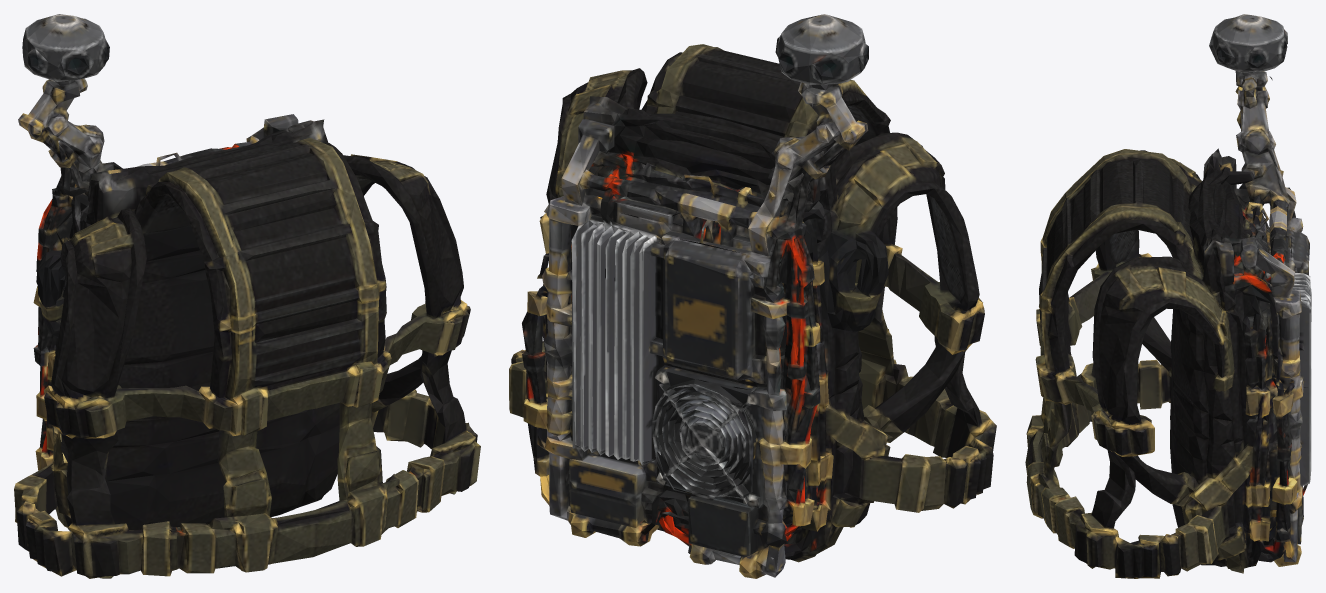
File: prepared-pack.glb
3 views of the same model, side by side, from view 1: azimuth 30°, elevation 25°; view 2: azimuth 150°, elevation 25°; view 3: azimuth 270°, elevation 25° (orthographic). The views are drawn at different scales.
Parts seen in each view (by area): view 1: operator_pack; view 2: operator_pack; view 3: operator_pack.
Part boxes in pixels (bbox=[...]): operator_pack: bbox=[14, 14, 480, 578]; operator_pack: bbox=[509, 14, 996, 578]; operator_pack: bbox=[1025, 14, 1311, 578].
Size of the model in its own units: 0.749 by 0.8598 by 0.4845.
Materials: 1 (1 with a texture image).
